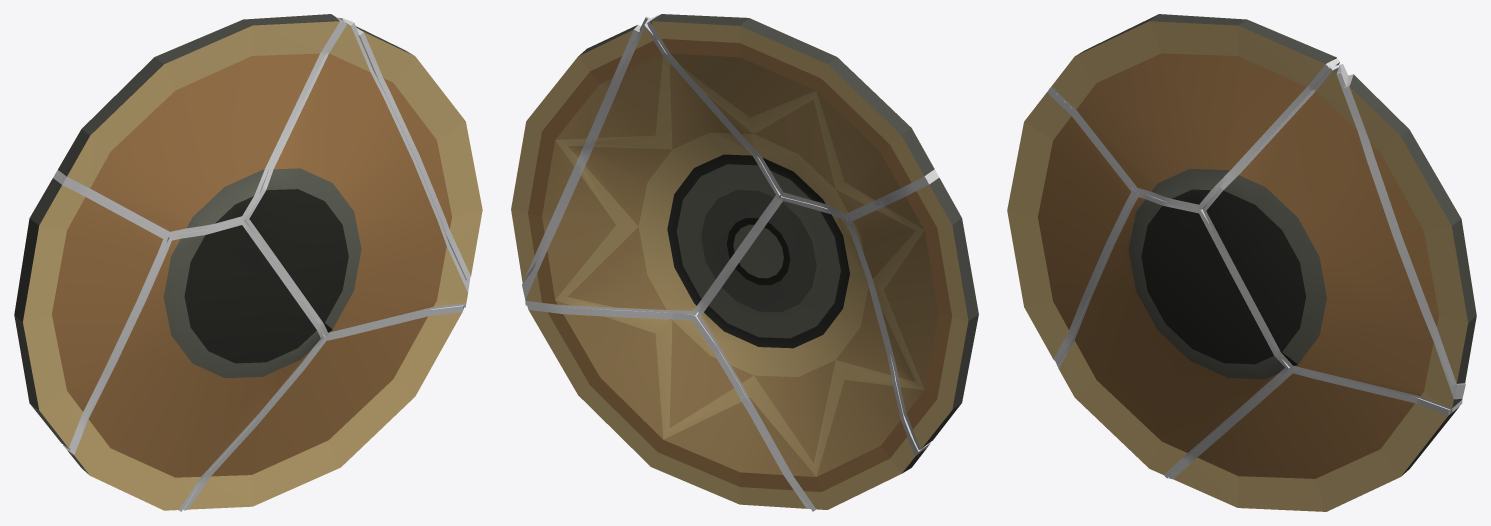
The model's file is v4_sunPlate.fbx.
The picture shows the model from 3 angles, left to right: view 1: azimuth 30°, elevation 25°; view 2: azimuth 150°, elevation 25°; view 3: azimuth 330°, elevation 25°; orthographic projection.
Parts seen in each view (by area): view 1: shard3, shard5, shard6, shard4, shard2, shard1, gold5, gold4, gold3, gold6, gold2, gold1; view 2: shard3, shard5, shard6, shard2, shard4, shard1, gold5, gold3, gold2, gold6, gold4, gold1; view 3: shard5, shard3, shard6, shard2, shard4, shard1, gold5, gold3, gold2, gold6, gold4, gold1.
Part boxes in pixels (x1,y1,x2,y2): shard3: (68, 225, 320, 510); shard5: (249, 23, 467, 332); shard6: (58, 14, 339, 231); shard4: (14, 178, 163, 447); shard2: (188, 312, 462, 509); shard1: (356, 26, 482, 275); gold5: (244, 17, 470, 336); gold4: (53, 175, 167, 449); gold3: (63, 221, 323, 511); gold6: (55, 15, 344, 237); gold2: (183, 305, 464, 510); gold1: (356, 28, 470, 280); shard3: (700, 201, 926, 509); shard5: (525, 28, 775, 311); shard6: (650, 14, 934, 213); shard2: (528, 310, 806, 508); shard4: (851, 177, 978, 449); shard1: (511, 25, 637, 282); gold5: (522, 15, 780, 314); gold3: (697, 196, 930, 511); gold2: (527, 306, 810, 508); gold6: (647, 15, 937, 218); gold4: (847, 174, 939, 449); gold1: (524, 25, 640, 279); shard5: (1206, 67, 1462, 408); shard3: (1059, 197, 1284, 474); shard6: (1051, 14, 1336, 204); shard2: (1173, 373, 1458, 511); shard4: (1007, 92, 1130, 358); shard1: (1349, 74, 1476, 383); gold5: (1203, 64, 1465, 412); gold3: (1055, 193, 1289, 478); gold2: (1168, 368, 1459, 479); gold6: (1049, 58, 1339, 210); gold4: (1047, 88, 1136, 363); gold1: (1344, 74, 1462, 385).
Bounding box in the file's own units: 11.08 × 11.08 × 1.04.
